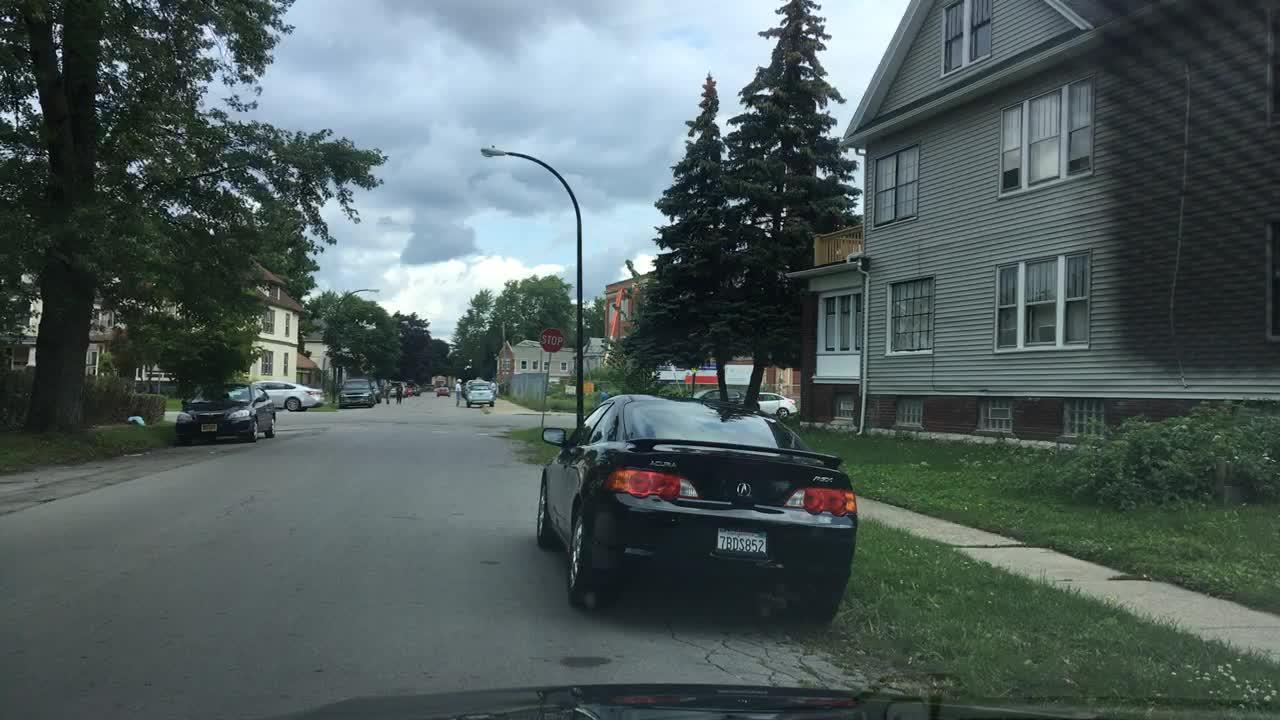acura: (735, 481, 755, 499)
